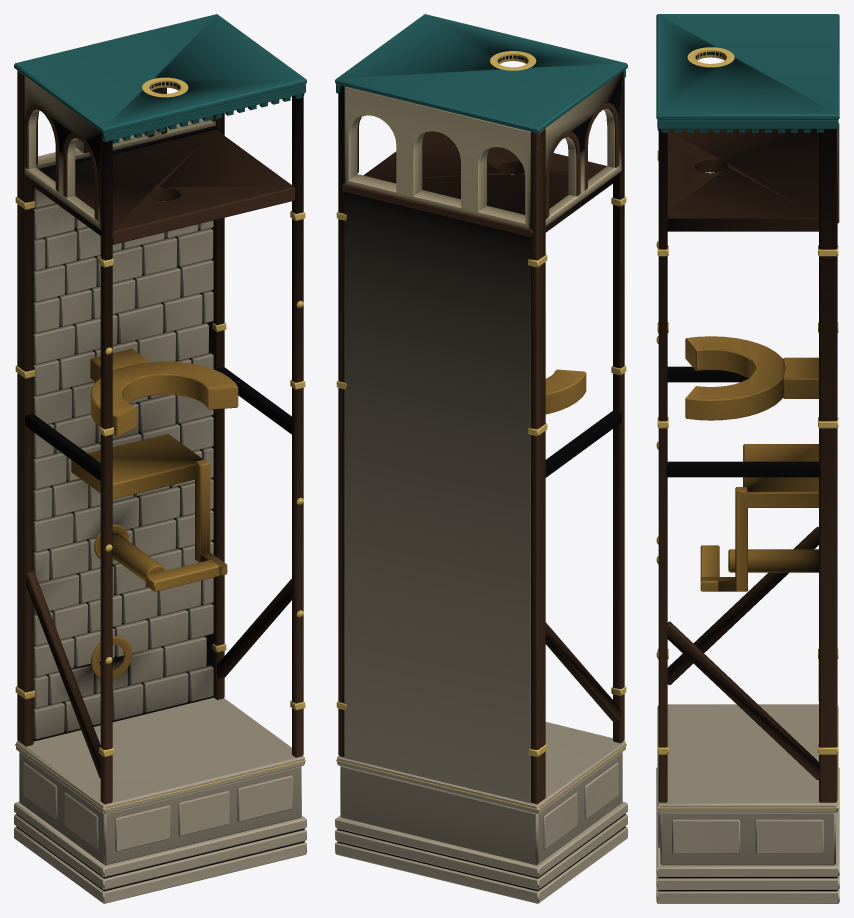
The model's file is belfry_base.glb.
The picture shows the model from 3 angles, left to right: view 1: azimuth 30°, elevation 25°; view 2: azimuth 150°, elevation 25°; view 3: azimuth 270°, elevation 25°; orthographic projection.
Visible parts, largest first — view 1: Belfry_Plinth; view 2: Belfry_Plinth; view 3: Belfry_Plinth.
Boxes of the visible parts, x1,y1,x2,y2 form: Belfry_Plinth: (14, 14, 306, 903); Belfry_Plinth: (335, 14, 627, 903); Belfry_Plinth: (656, 14, 839, 903).
Bounding box in the file's own units: 0.076 × 0.2759 × 0.058.
